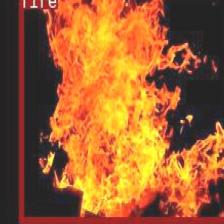fire: (17, 0, 223, 223)
